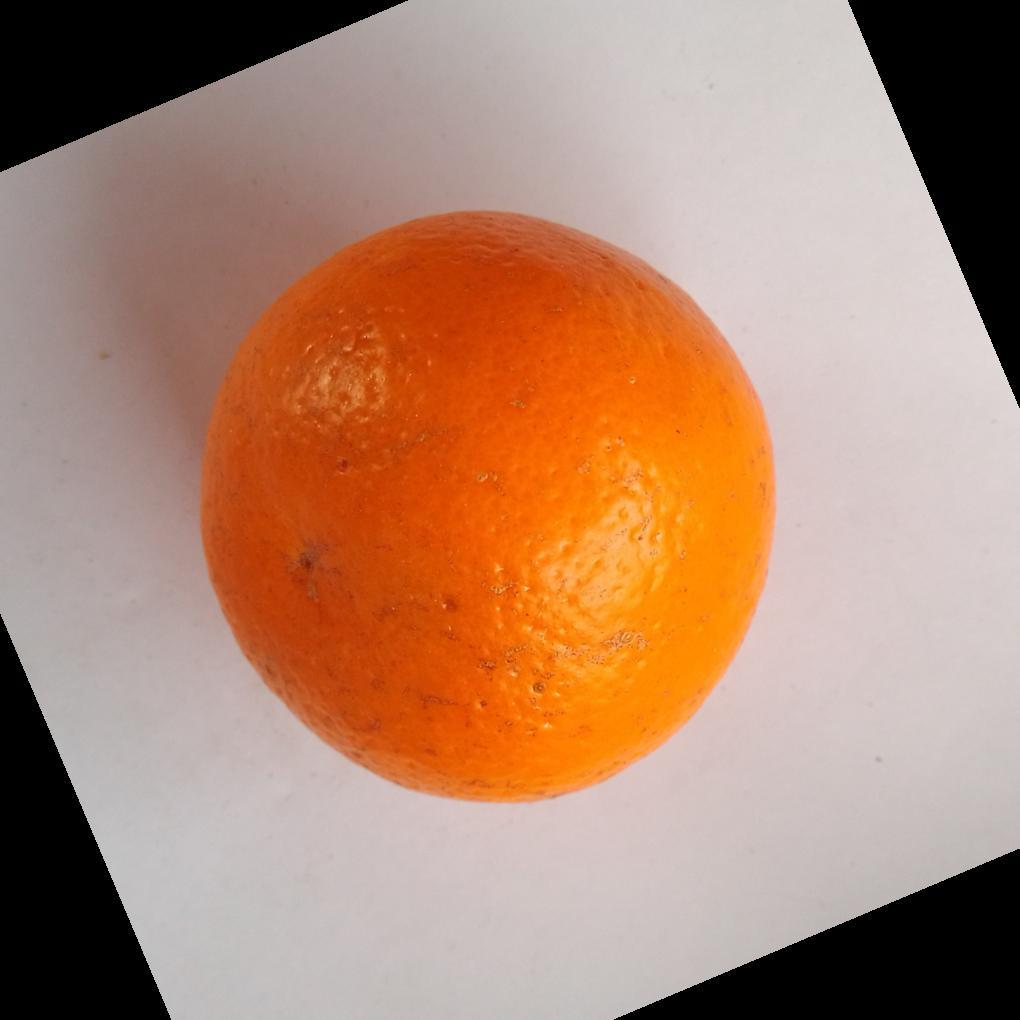FreshGuava: (197, 211, 777, 808)
